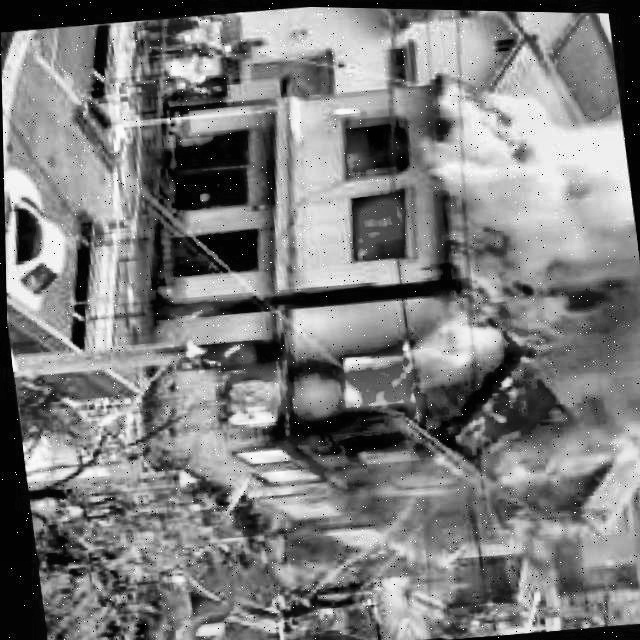Smoke: (408, 45, 640, 454)
